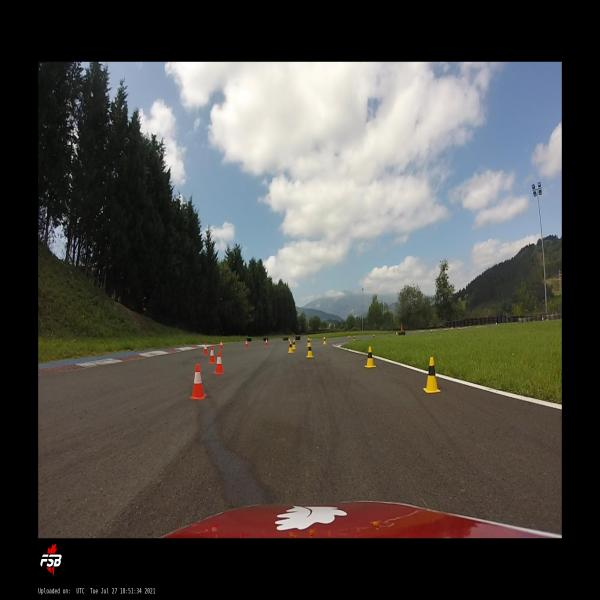orange_cone: (190, 364, 206, 399), (213, 351, 226, 374), (209, 346, 215, 363), (204, 342, 208, 355), (220, 340, 223, 350), (245, 340, 248, 348), (265, 338, 268, 346), (288, 338, 290, 344), (396, 332, 398, 335), (349, 336, 350, 340)
yellow_cone: (423, 357, 441, 393), (364, 346, 377, 367), (306, 342, 314, 358), (288, 340, 294, 354), (292, 339, 296, 350), (306, 338, 310, 347), (323, 336, 326, 344), (354, 335, 355, 341), (373, 335, 375, 338), (431, 330, 432, 333)
